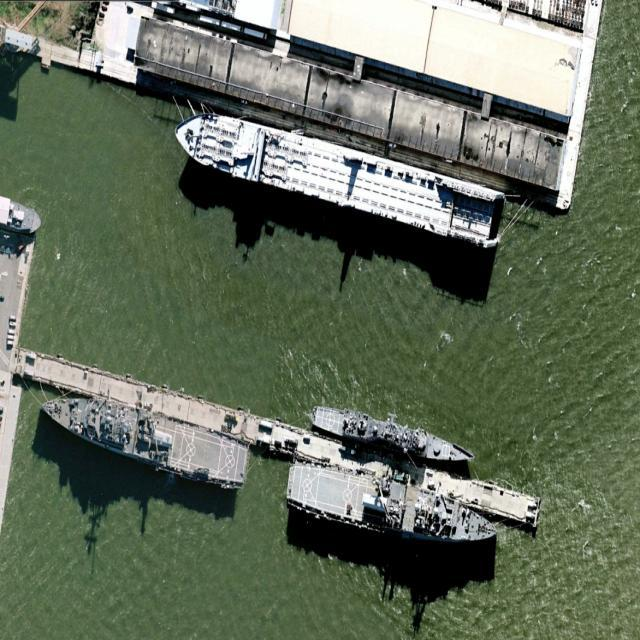Cargo: (168, 95, 509, 254)
Frigate: (309, 403, 477, 470)
Landing: (36, 380, 251, 493), (282, 454, 502, 563)
